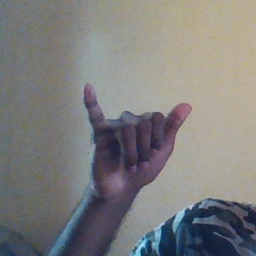J: (82, 80, 190, 198)
